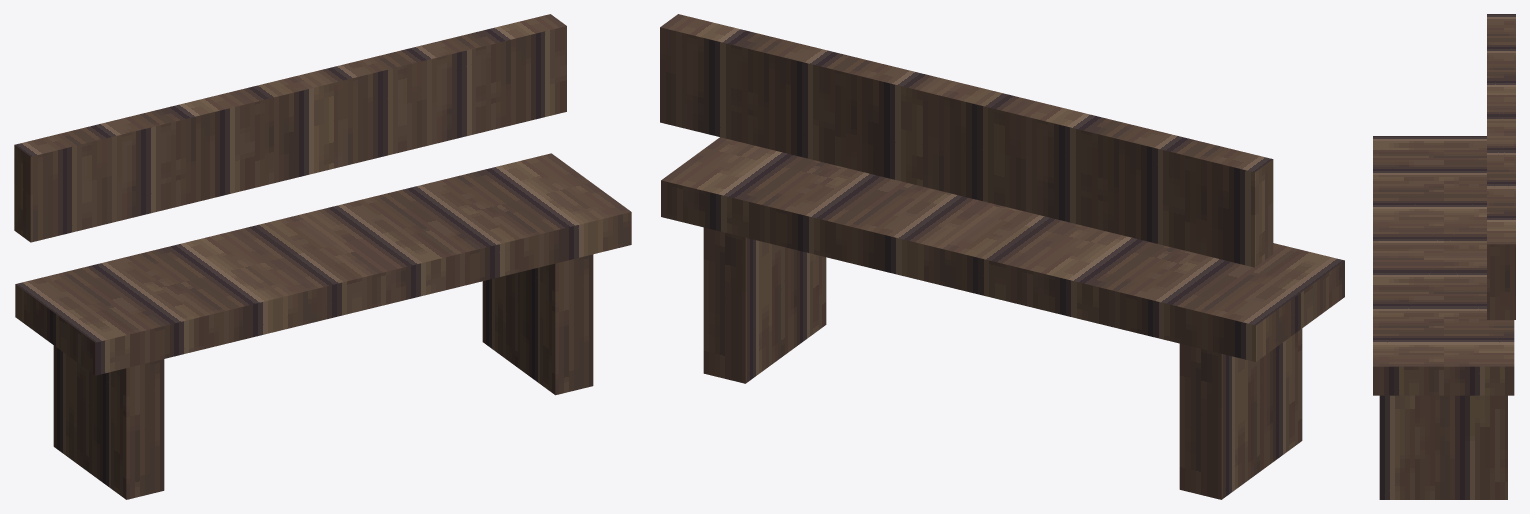
The model's file is bench.glb.
3 renders of one model, left to right at view 1: azimuth 30°, elevation 25°; view 2: azimuth 150°, elevation 25°; view 3: azimuth 270°, elevation 25°, orthographic. The views are drawn at different scales.
Parts seen in each view (by area): view 1: bench; view 2: bench; view 3: bench.
Boxes of the visible parts, box(x1,y1,x2,y2) form: bench: box(14, 14, 631, 499); bench: box(660, 14, 1344, 499); bench: box(1373, 14, 1515, 499).
Size of the model in its own units: 1.7 by 0.93 by 0.445.
Materials: 1 (1 with a texture image).
